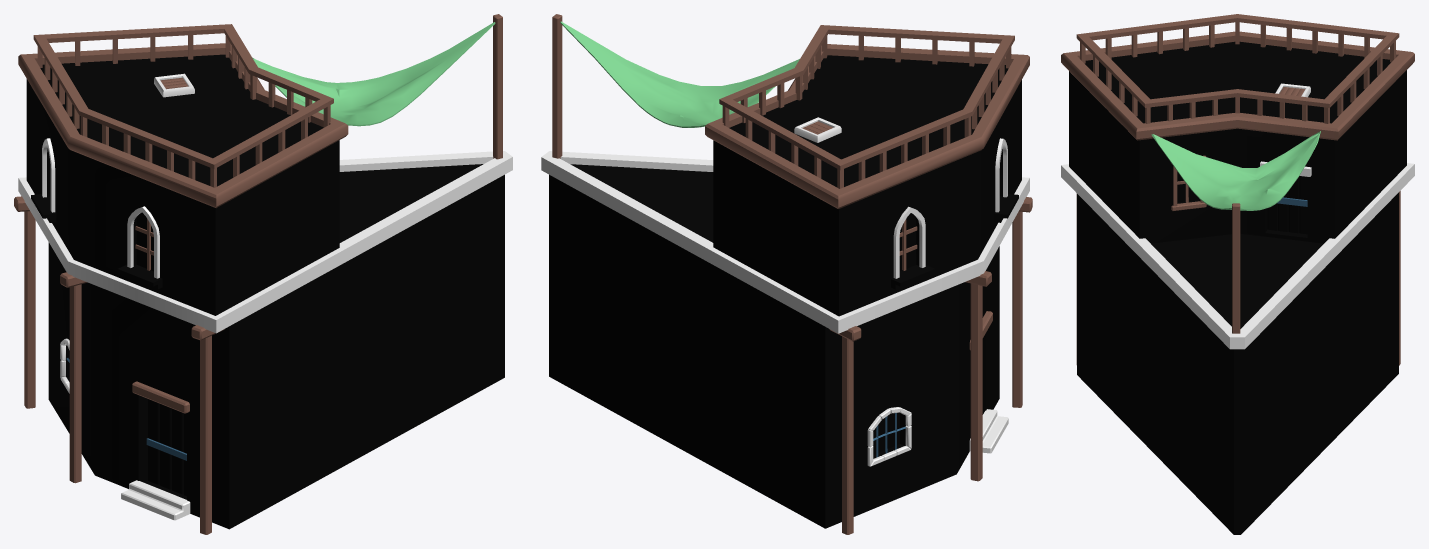
File: civilian_house_30_d.FBX
The picture shows the model from 3 angles, left to right: view 1: azimuth 30°, elevation 25°; view 2: azimuth 150°, elevation 25°; view 3: azimuth 270°, elevation 25°; orthographic projection. The views are drawn at different scales.
Visible parts, largest first — view 1: civilian_house_30_d_LOD0; view 2: civilian_house_30_d_LOD0; view 3: civilian_house_30_d_LOD0.
Part boxes in pixels (box(x1,y1,x2,y2)): civilian_house_30_d_LOD0: box(14, 14, 512, 534); civilian_house_30_d_LOD0: box(541, 14, 1032, 534); civilian_house_30_d_LOD0: box(1061, 14, 1414, 534).
Size of what is drawn, in the model's own units: 1268 by 999 by 960.
